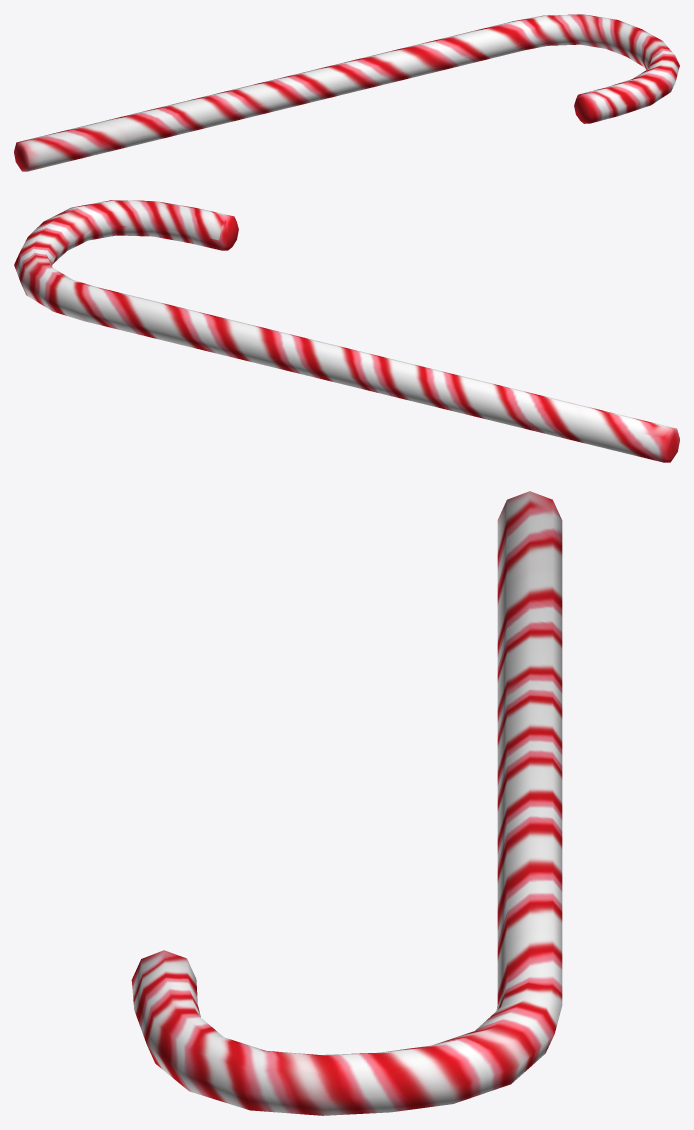
Rendered from CHP_MOD_Candy_cane_red.fbx.
3 renders of one model, top to bottom at view 1: azimuth 30°, elevation 25°; view 2: azimuth 150°, elevation 25°; view 3: azimuth 270°, elevation 25°, orthographic. The views are drawn at different scales.
Visible parts, largest first — view 1: CHP_MOD_Candy_cane_red; view 2: CHP_MOD_Candy_cane_red; view 3: CHP_MOD_Candy_cane_red.
Boxes of the visible parts, x1,y1,x2,y2 form: CHP_MOD_Candy_cane_red: (14,14,679,171); CHP_MOD_Candy_cane_red: (14,200,679,462); CHP_MOD_Candy_cane_red: (131,491,562,1115).
Bounding box in the file's own units: 1.18 × 0.0557 × 0.3706.
